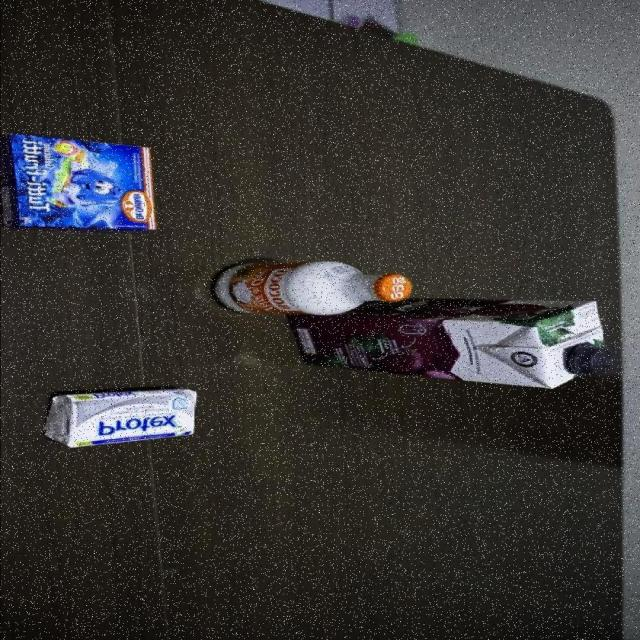CoconutMilk: (213, 259, 414, 316)
Gelatine: (0, 134, 156, 234)
Soap: (37, 385, 201, 449)
